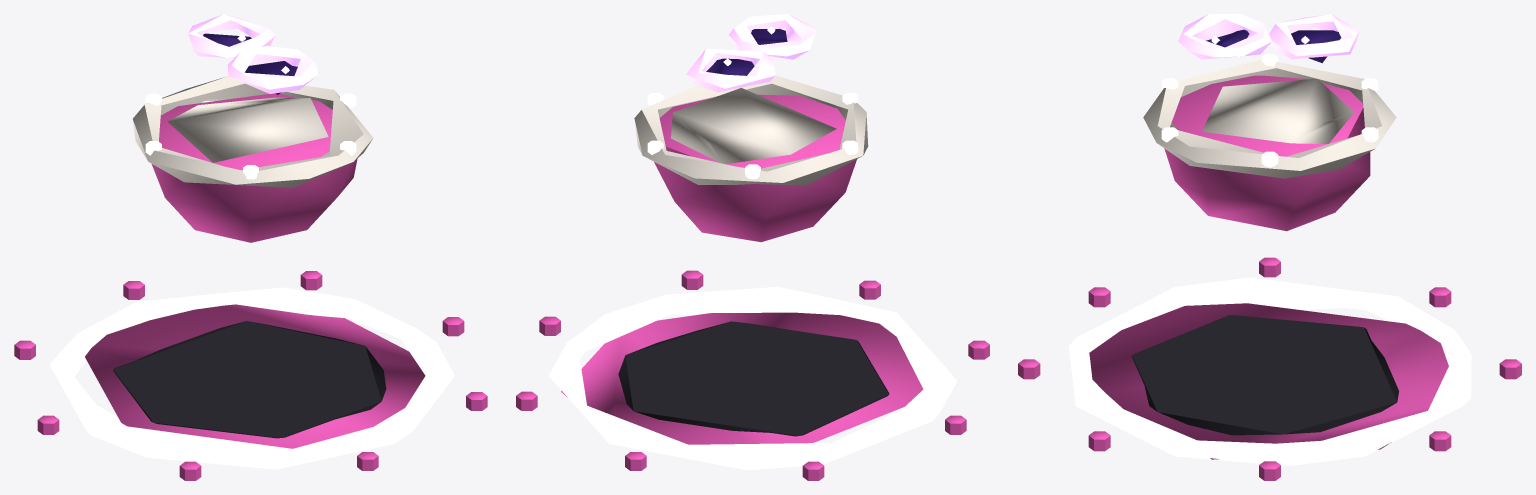
Rendered from pu_split.glb.
3 renders of one model, left to right at view 1: azimuth 30°, elevation 25°; view 2: azimuth 150°, elevation 25°; view 3: azimuth 270°, elevation 25°, orthographic. The views are drawn at different scales.
Parts seen in each view (by area): view 1: pu_split.002, capsule.007; view 2: pu_split.002, capsule.007; view 3: pu_split.002, capsule.007.
Part boxes in pixels (x1,y1,x2,y2): pu_split.002: (14,271,487,480); capsule.007: (132,14,373,242); pu_split.002: (516,270,989,480); capsule.007: (634,14,868,242); pu_split.002: (1018,257,1521,480); capsule.007: (1143,14,1396,231).
Size of the model in its own units: 1.56 by 1.2 by 1.57.
1 material, 1 textured.
